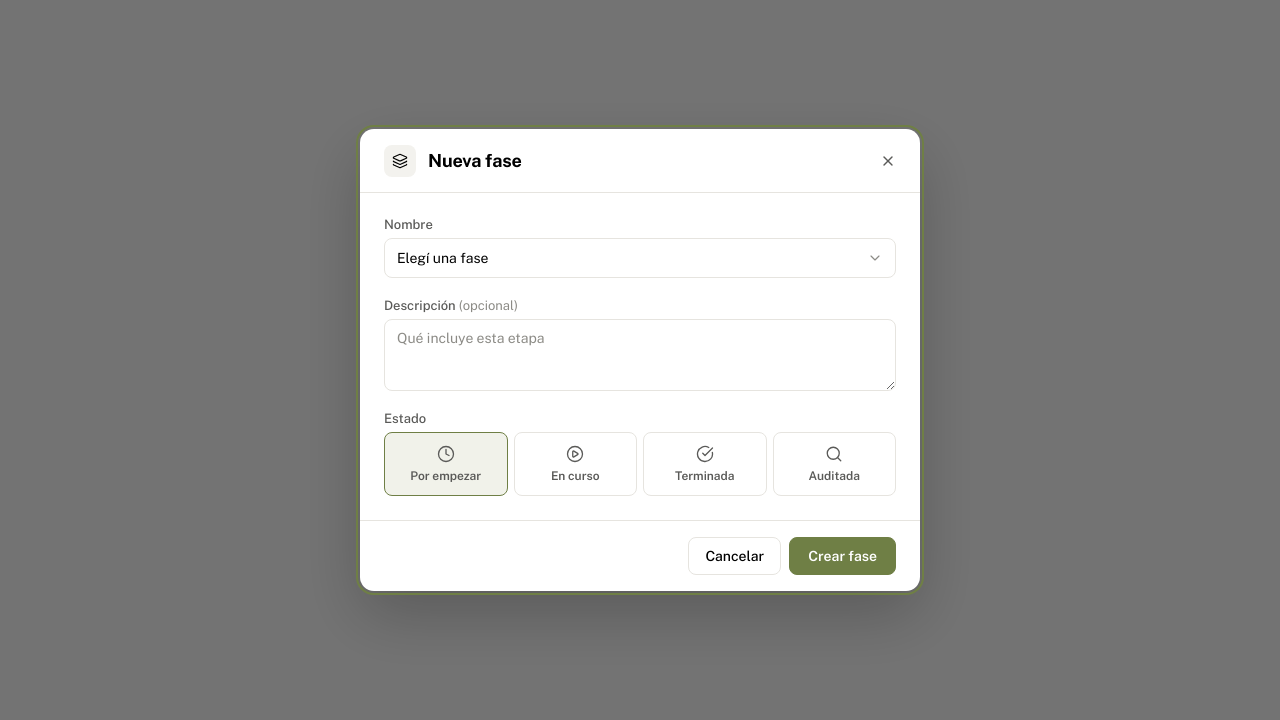
it: ModalFase: nombre de la lista o a mano › con «Otra (escribir a mano)» se tipea un nombre libre, y se puede volver a la lista
Select "Otra (escribir a mano)" in the dropdown labelled "Nombre": (640, 258) x1=384 y1=238 x2=896 y2=278
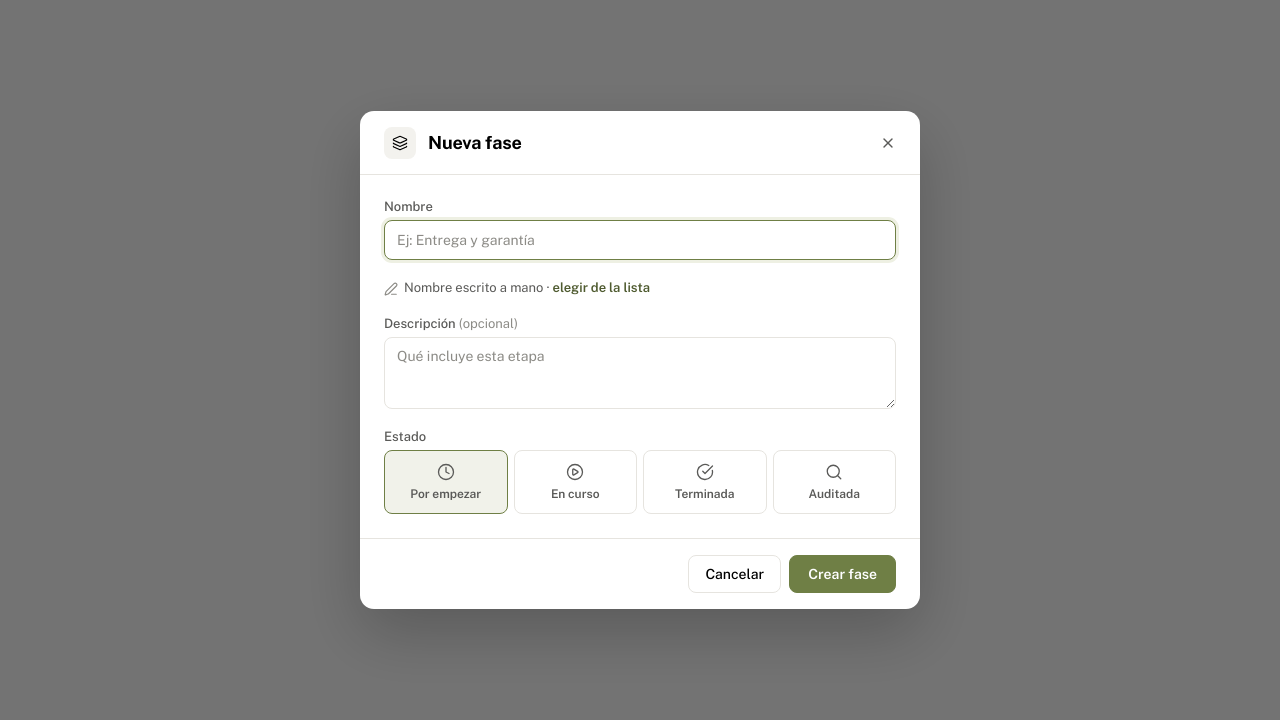
In the field labelled "Nombre": (640, 240) x1=384 y1=220 x2=896 y2=260, type "Entrega y garantía"
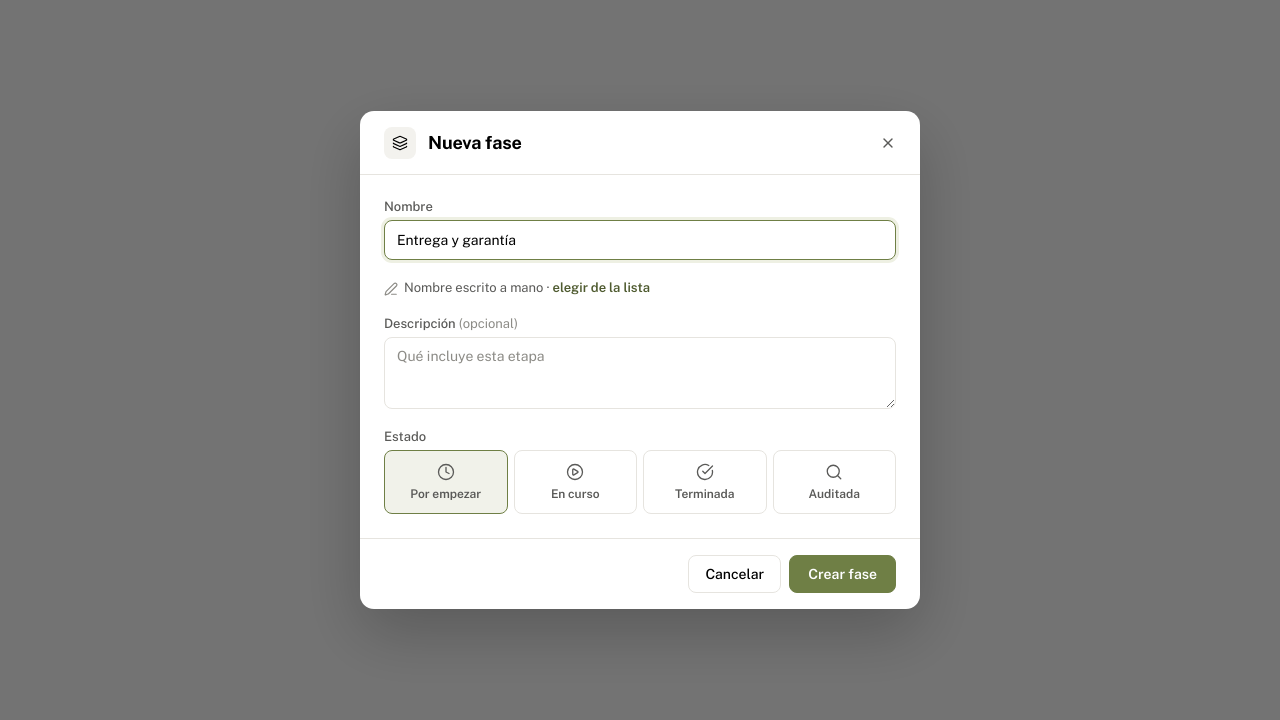
Click the button "Crear fase": (843, 574) x1=789 y1=555 x2=896 y2=593
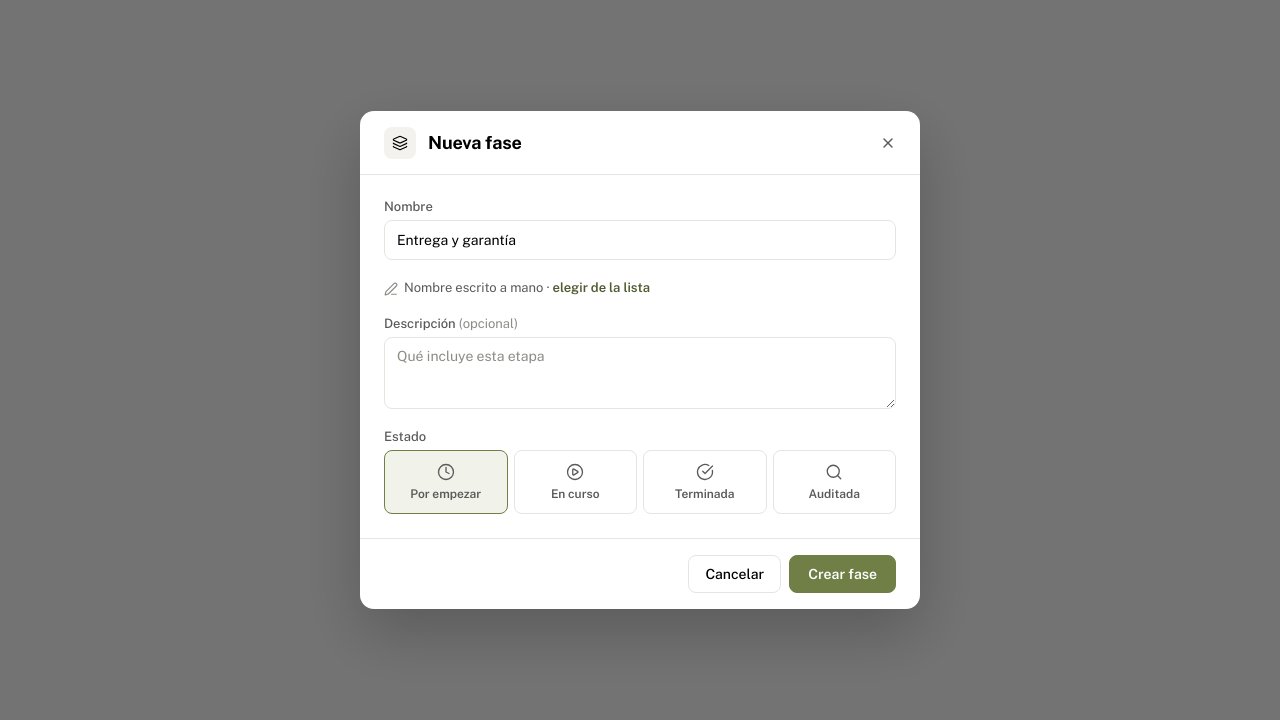
Click the button "elegir de la lista": (601, 288) x1=552 y1=280 x2=650 y2=295
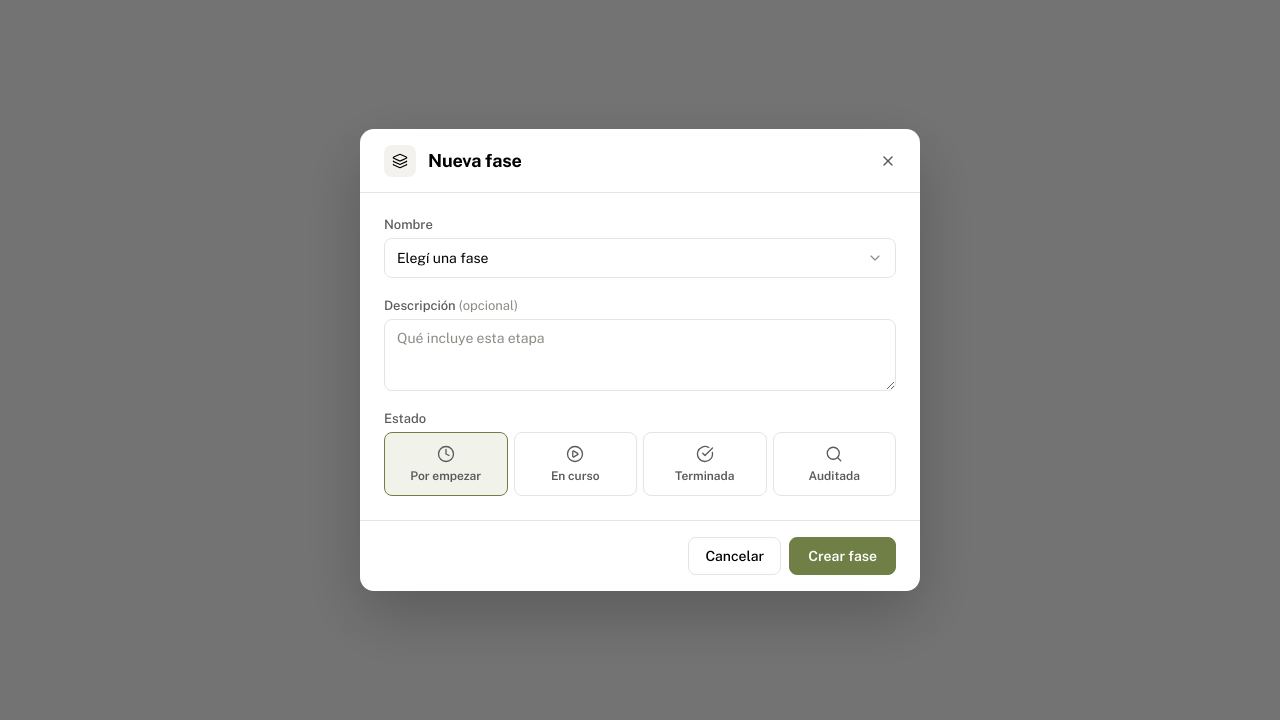
Now the dropdown labelled "Nombre" is shown, box x1=384 y1=238 x2=896 y2=278
